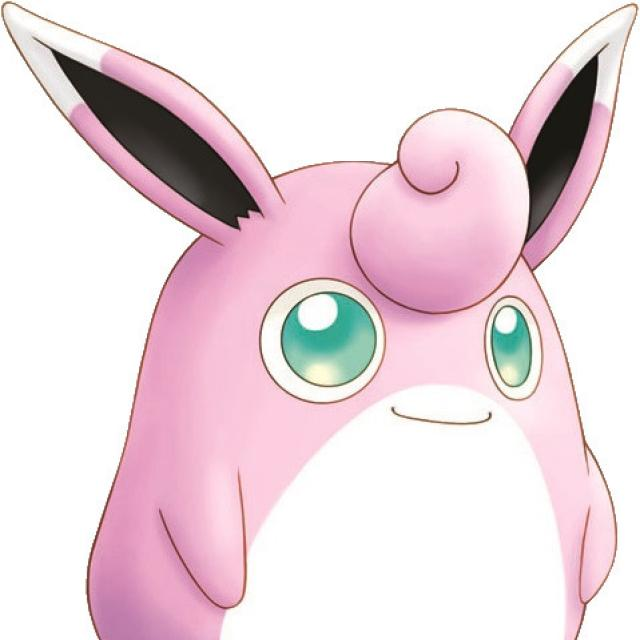Wigglytuff: (71, 47, 639, 640)
